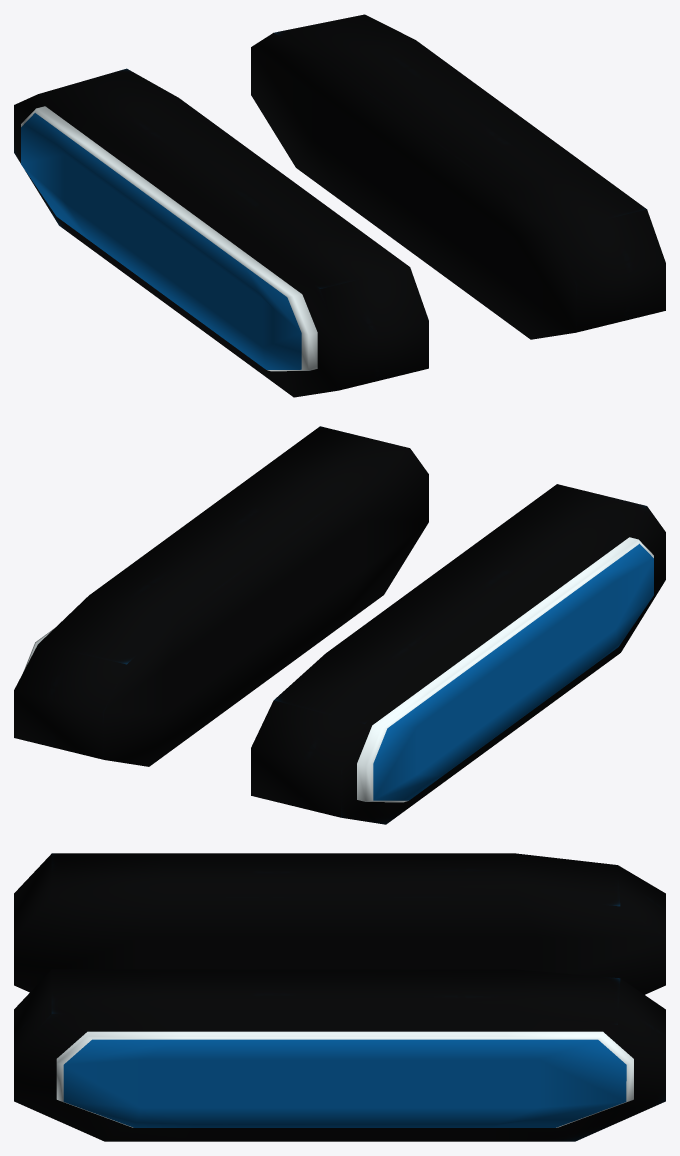
Rendered from tank_tread_01.fbx.
The picture shows the model from 3 angles, top to bottom: view 1: azimuth 30°, elevation 25°; view 2: azimuth 150°, elevation 25°; view 3: azimuth 270°, elevation 25°; orthographic projection.
Parts seen in each view (by area): view 1: Tread; view 2: Tread; view 3: Tread.
Boxes of the visible parts, <box> form: Tread: <box>14,14,665,397</box>; Tread: <box>14,426,665,824</box>; Tread: <box>14,853,665,1141</box>.
Size of the model in its own units: 203 by 70.25 by 324.
